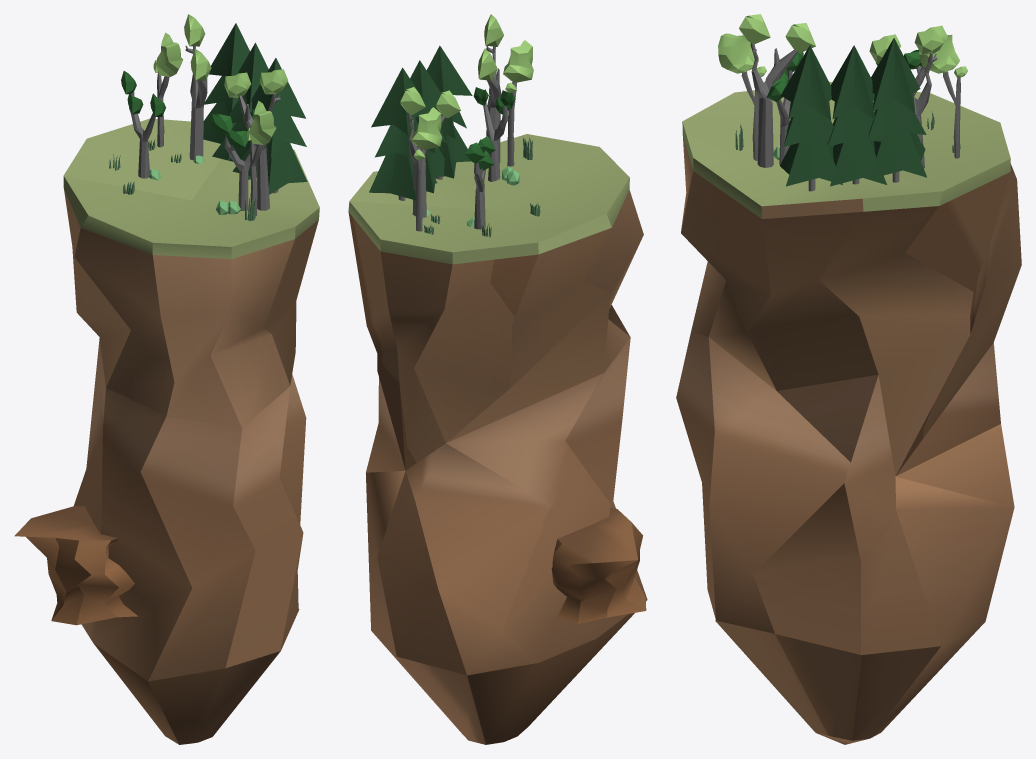
Rendered from HappyCliff.fbx.
3 renders of one model, left to right at view 1: azimuth 30°, elevation 25°; view 2: azimuth 150°, elevation 25°; view 3: azimuth 270°, elevation 25°, orthographic. The views are drawn at different scales.
Visible parts, largest first — view 1: tree_basic_bright_side1:pasted__pasted__pasted__pasted__pPla, Interim_Landscape_0002:pCylinder4; view 2: tree_basic_bright_side1:pasted__pasted__pasted__pasted__pPla, Interim_Landscape_0002:pCylinder4; view 3: tree_basic_bright_side1:pasted__pasted__pasted__pasted__pPla.
Part boxes in pixels (x1,y1,x2,y2): tree_basic_bright_side1:pasted__pasted__pasted__pasted__pPla: (63,14,319,744); Interim_Landscape_0002:pCylinder4: (14,506,137,625); tree_basic_bright_side1:pasted__pasted__pasted__pasted__pPla: (348,14,647,744); Interim_Landscape_0002:pCylinder4: (551,507,646,623); tree_basic_bright_side1:pasted__pasted__pasted__pasted__pPla: (676,14,1021,744).
Size of the model in its own units: 42.59 by 102 by 42.47.
Materials: 10 (2 with a texture image).
